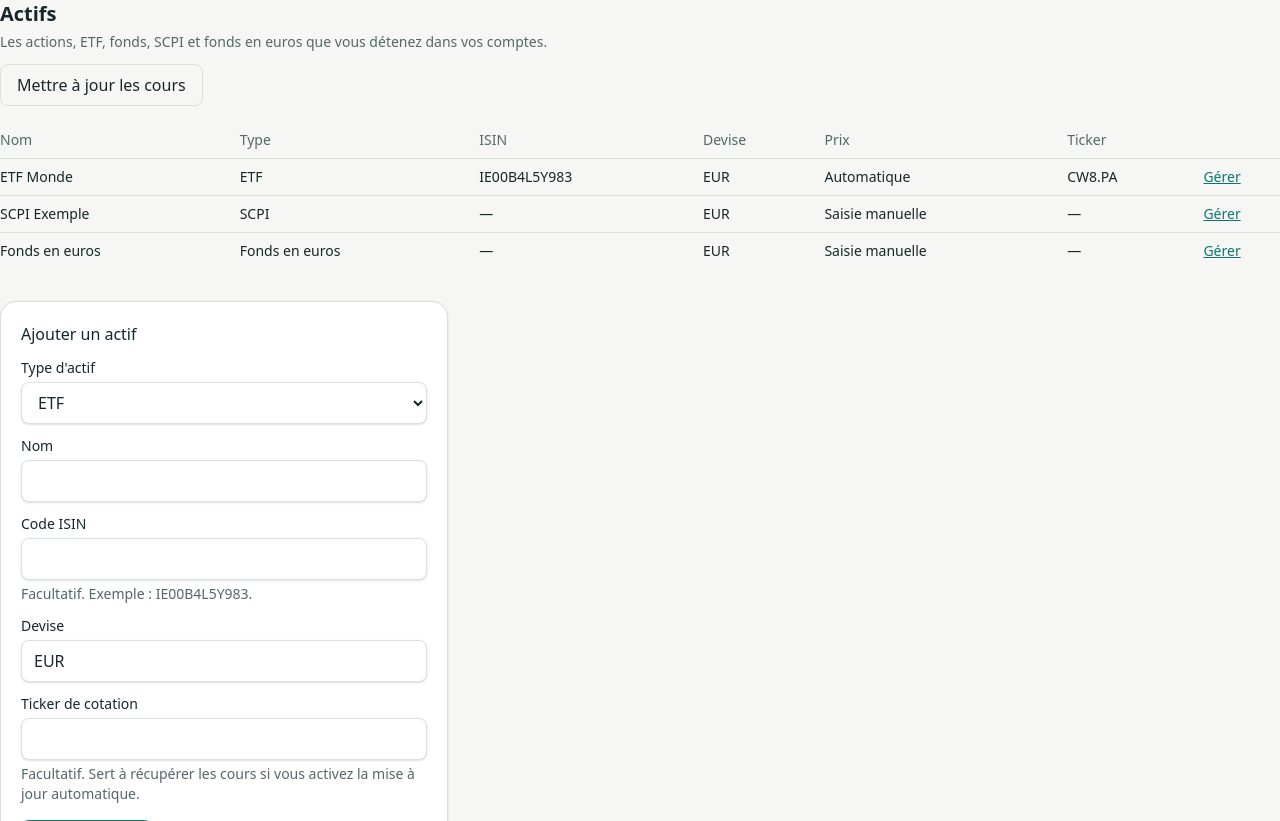
Test: ticker › dit quand OpenFIGI est indisponible
Click the button "Gérer" in the row of "ETF Monde". click: click(1222, 177)
box: [1203, 167, 1241, 187]
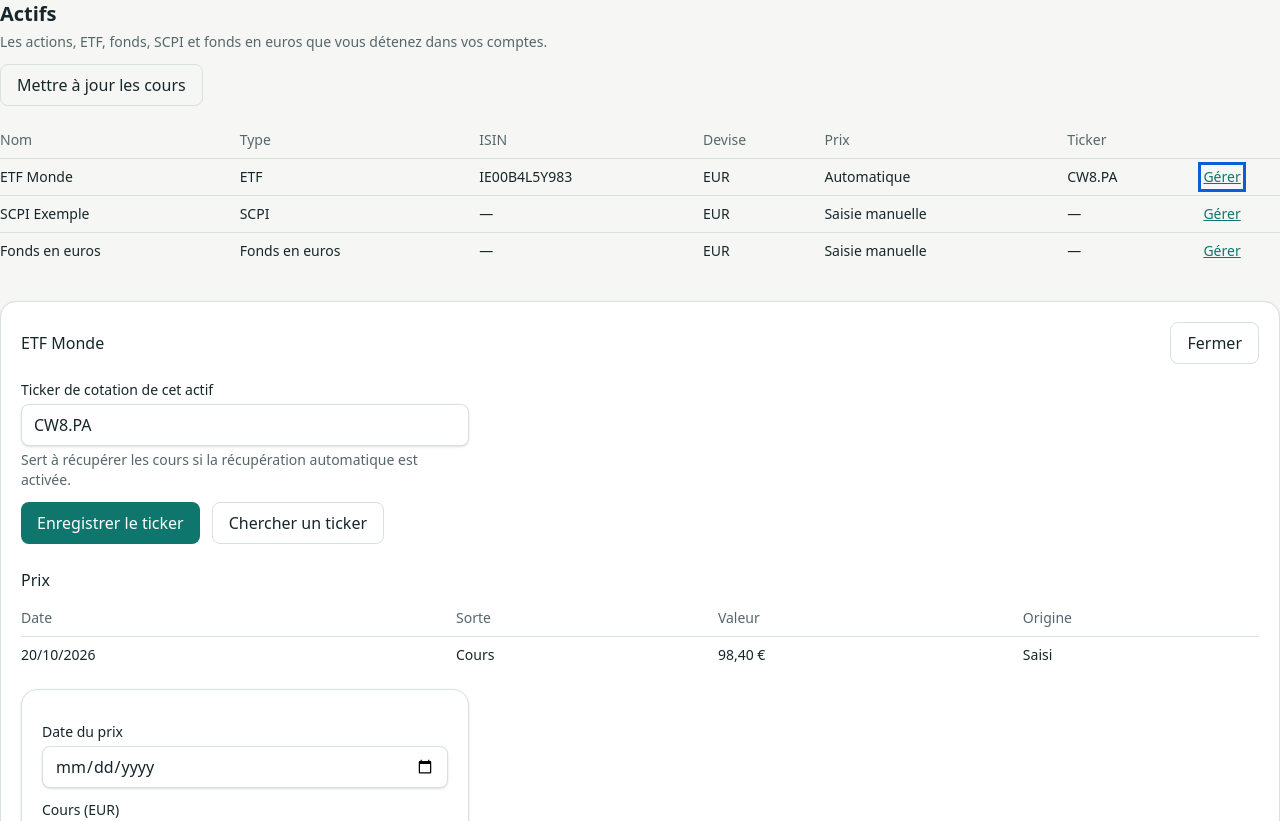
Click the button "Chercher un ticker". click: click(298, 523)
box: [212, 502, 384, 544]
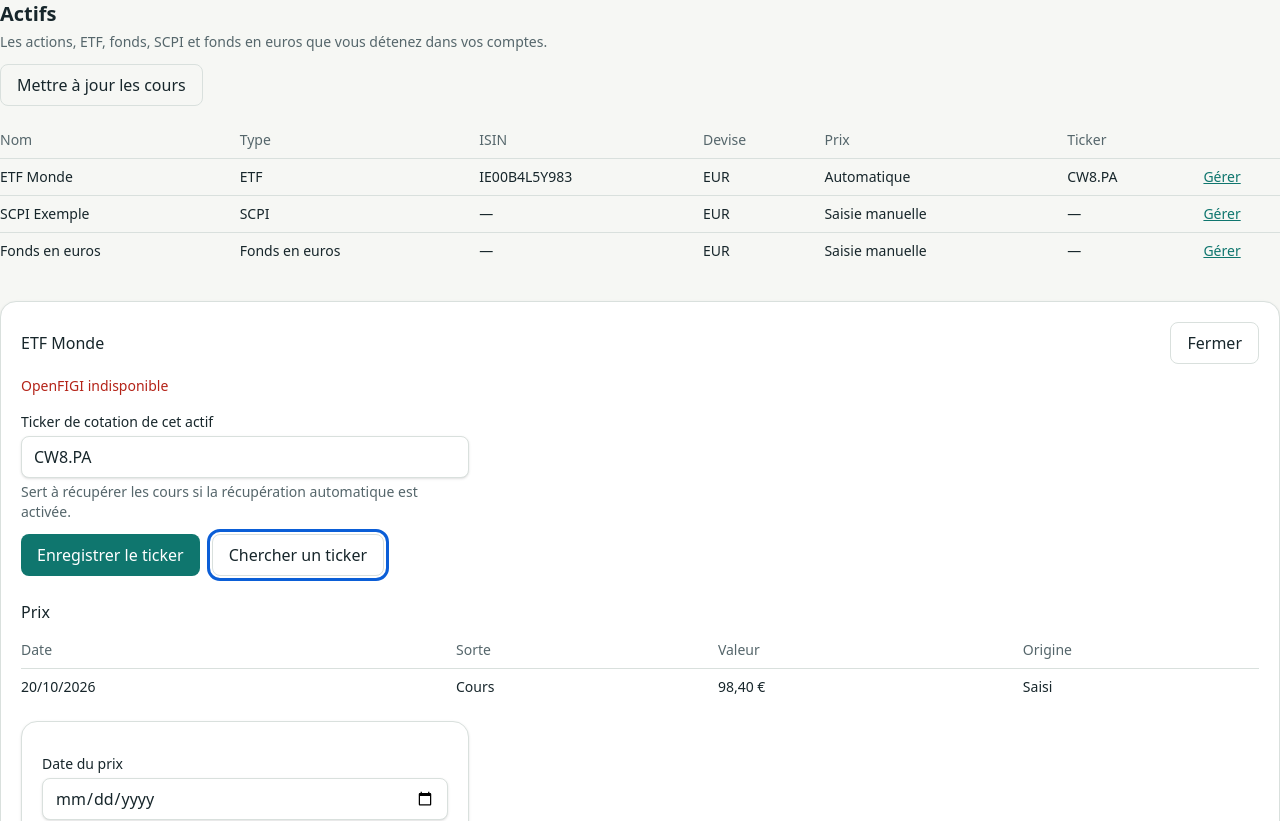
Now the message reads "OpenFIGI indisponible", box [21, 376, 168, 395]
